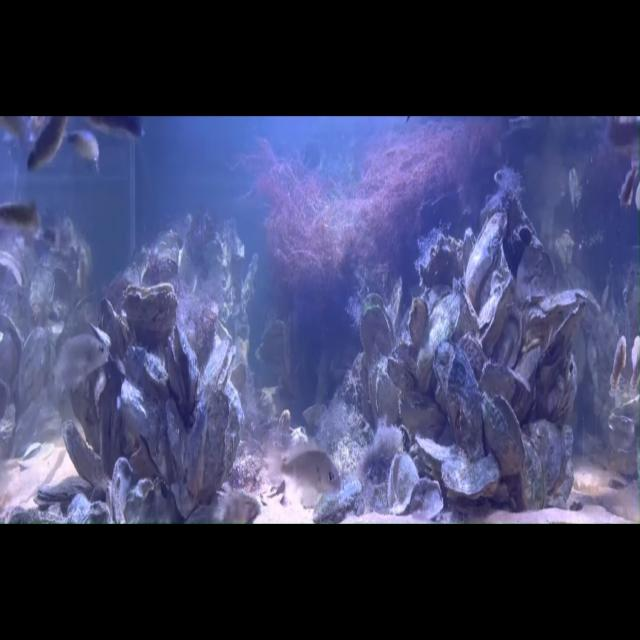Oyster- Indeterminate: (488, 301, 528, 380)
Oyster-Closed: (423, 336, 495, 463), (504, 278, 601, 362), (463, 244, 527, 349), (405, 287, 467, 395), (451, 206, 516, 303), (522, 413, 580, 494), (48, 417, 112, 489), (113, 340, 183, 405), (470, 357, 542, 419), (200, 319, 254, 395), (500, 433, 549, 514), (109, 375, 162, 443), (415, 229, 475, 287), (17, 326, 51, 412), (402, 433, 456, 485), (441, 453, 500, 500), (395, 390, 449, 440), (31, 471, 95, 512), (533, 359, 582, 412), (165, 401, 195, 480), (25, 264, 57, 326), (456, 329, 493, 381), (403, 296, 432, 350), (511, 343, 541, 389), (386, 342, 418, 385)
Oyster-Open: (172, 375, 253, 510), (159, 323, 210, 427), (105, 456, 181, 525), (476, 388, 529, 479), (121, 280, 182, 346), (386, 452, 420, 517), (360, 293, 392, 362), (134, 254, 182, 285), (0, 313, 21, 382), (0, 247, 26, 302)
